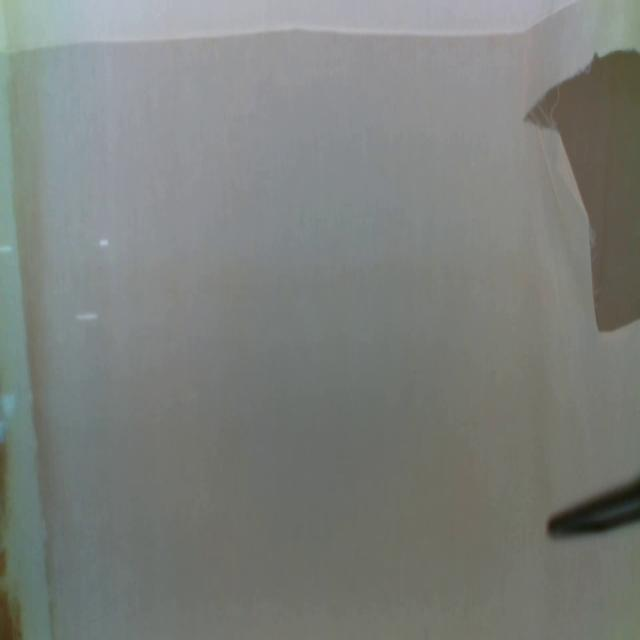color bleeding: (0, 0, 58, 639)
hole: (520, 48, 640, 330)
